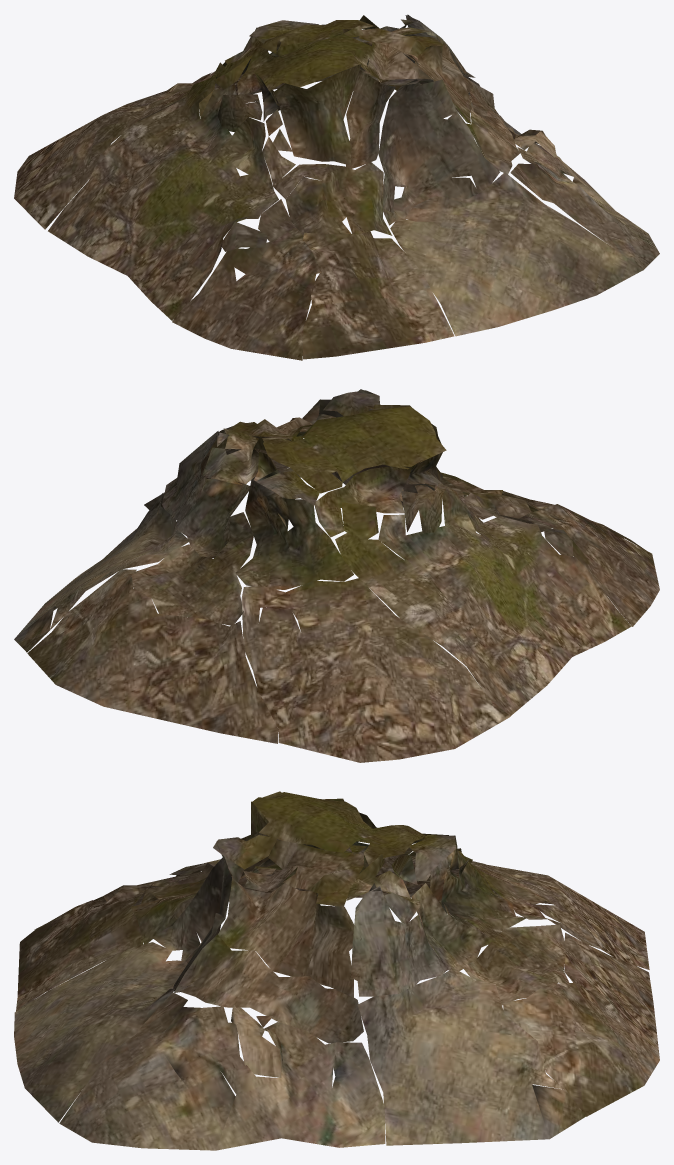
File: tree_stump_01.glb
The picture shows the model from 3 angles, top to bottom: view 1: azimuth 30°, elevation 25°; view 2: azimuth 150°, elevation 25°; view 3: azimuth 270°, elevation 25°; orthographic projection. The views are drawn at different scales.
Parts seen in each view (by area): view 1: Prop; view 2: Prop; view 3: Prop.
Part boxes in pixels (box(x1,y1,x2,y2)): Prop: box(14, 14, 659, 360); Prop: box(14, 389, 659, 762); Prop: box(14, 791, 659, 1150).
Size of the model in its own units: 1.43 by 0.5677 by 1.59.
1 material, 1 textured.
